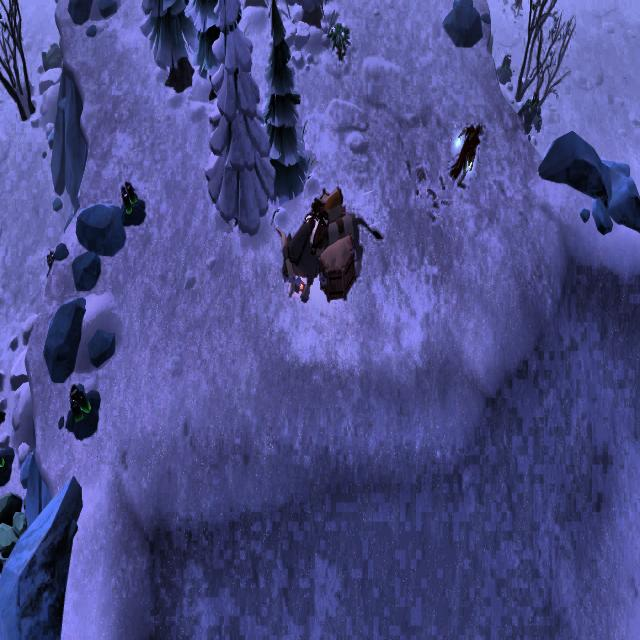enemy_factionUndead: (450, 122, 484, 189)
fiber_t3: (328, 20, 352, 64)
ore_t3: (69, 381, 94, 429), (120, 176, 138, 215), (497, 52, 512, 76)
rock_t3: (0, 490, 26, 563)
